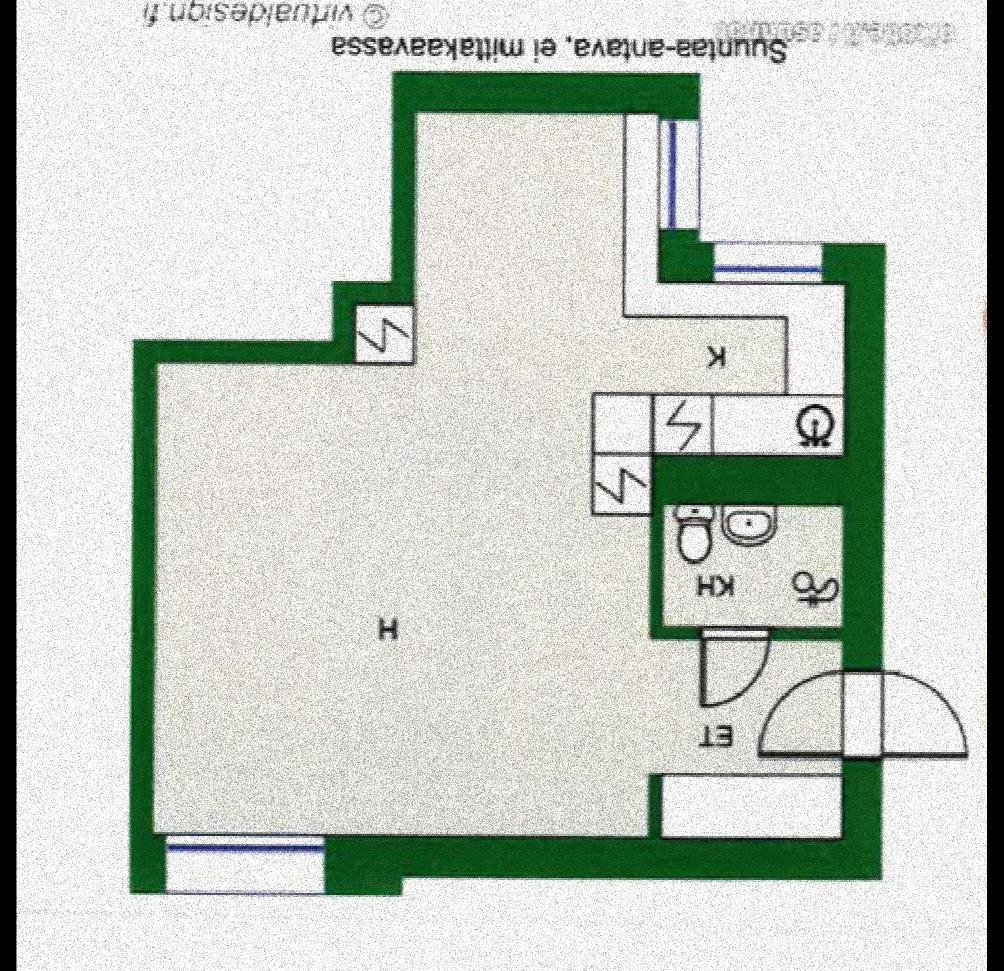door: (150, 110, 838, 832), (664, 501, 842, 628)
window: (756, 664, 972, 760), (700, 626, 772, 709)
zone: (168, 834, 322, 890), (654, 120, 699, 226), (712, 243, 819, 284)
